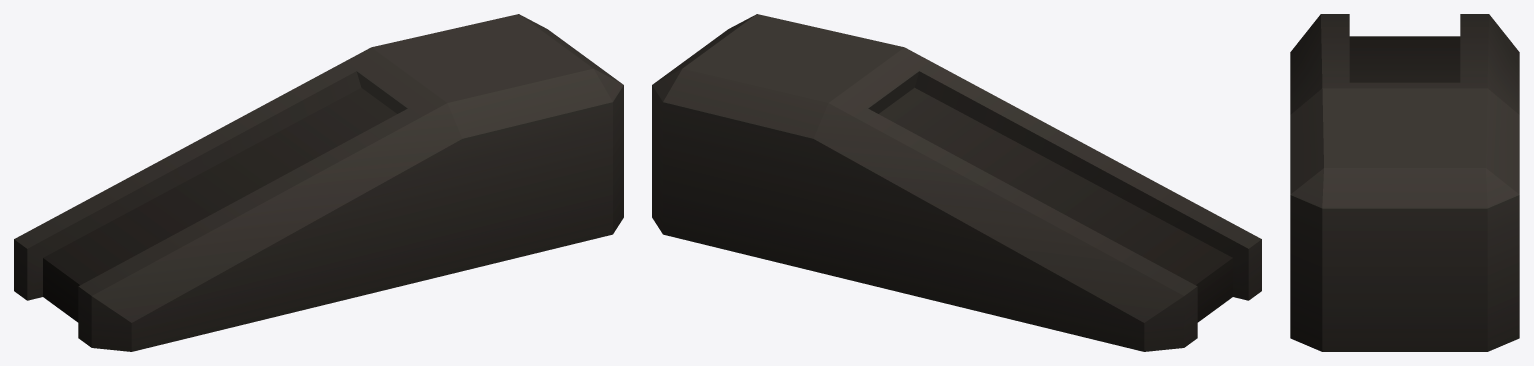
The model's file is Ammo_06.fbx.
The picture shows the model from 3 angles, left to right: view 1: azimuth 30°, elevation 25°; view 2: azimuth 150°, elevation 25°; view 3: azimuth 270°, elevation 25°; orthographic projection. The views are drawn at different scales.
Visible parts, largest first — view 1: Ammo_06; view 2: Ammo_06; view 3: Ammo_06.
Boxes of the visible parts, left/top/right/bottom form: Ammo_06: left=14, top=14, right=623, bottom=351; Ammo_06: left=652, top=14, right=1261, bottom=351; Ammo_06: left=1290, top=14, right=1519, bottom=351.
Bounding box in the file's own units: 35.61 × 10.05 × 12.27.
